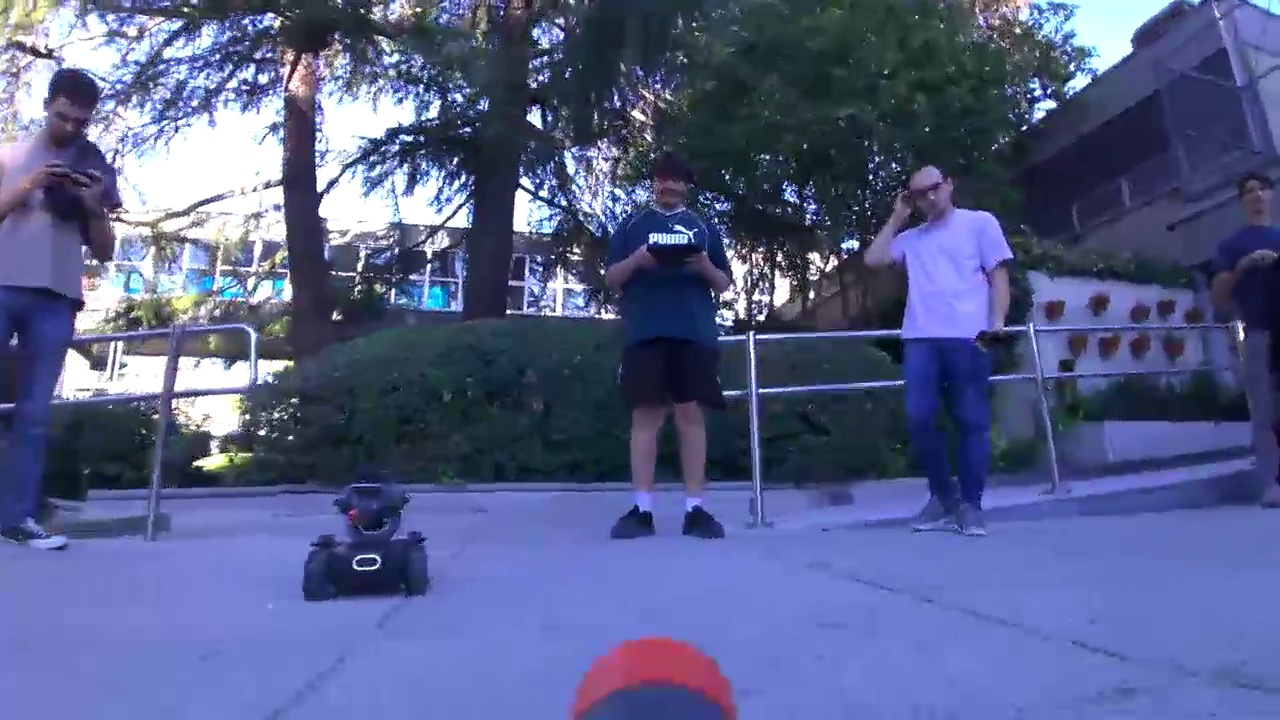robot: (290, 477, 440, 594)
